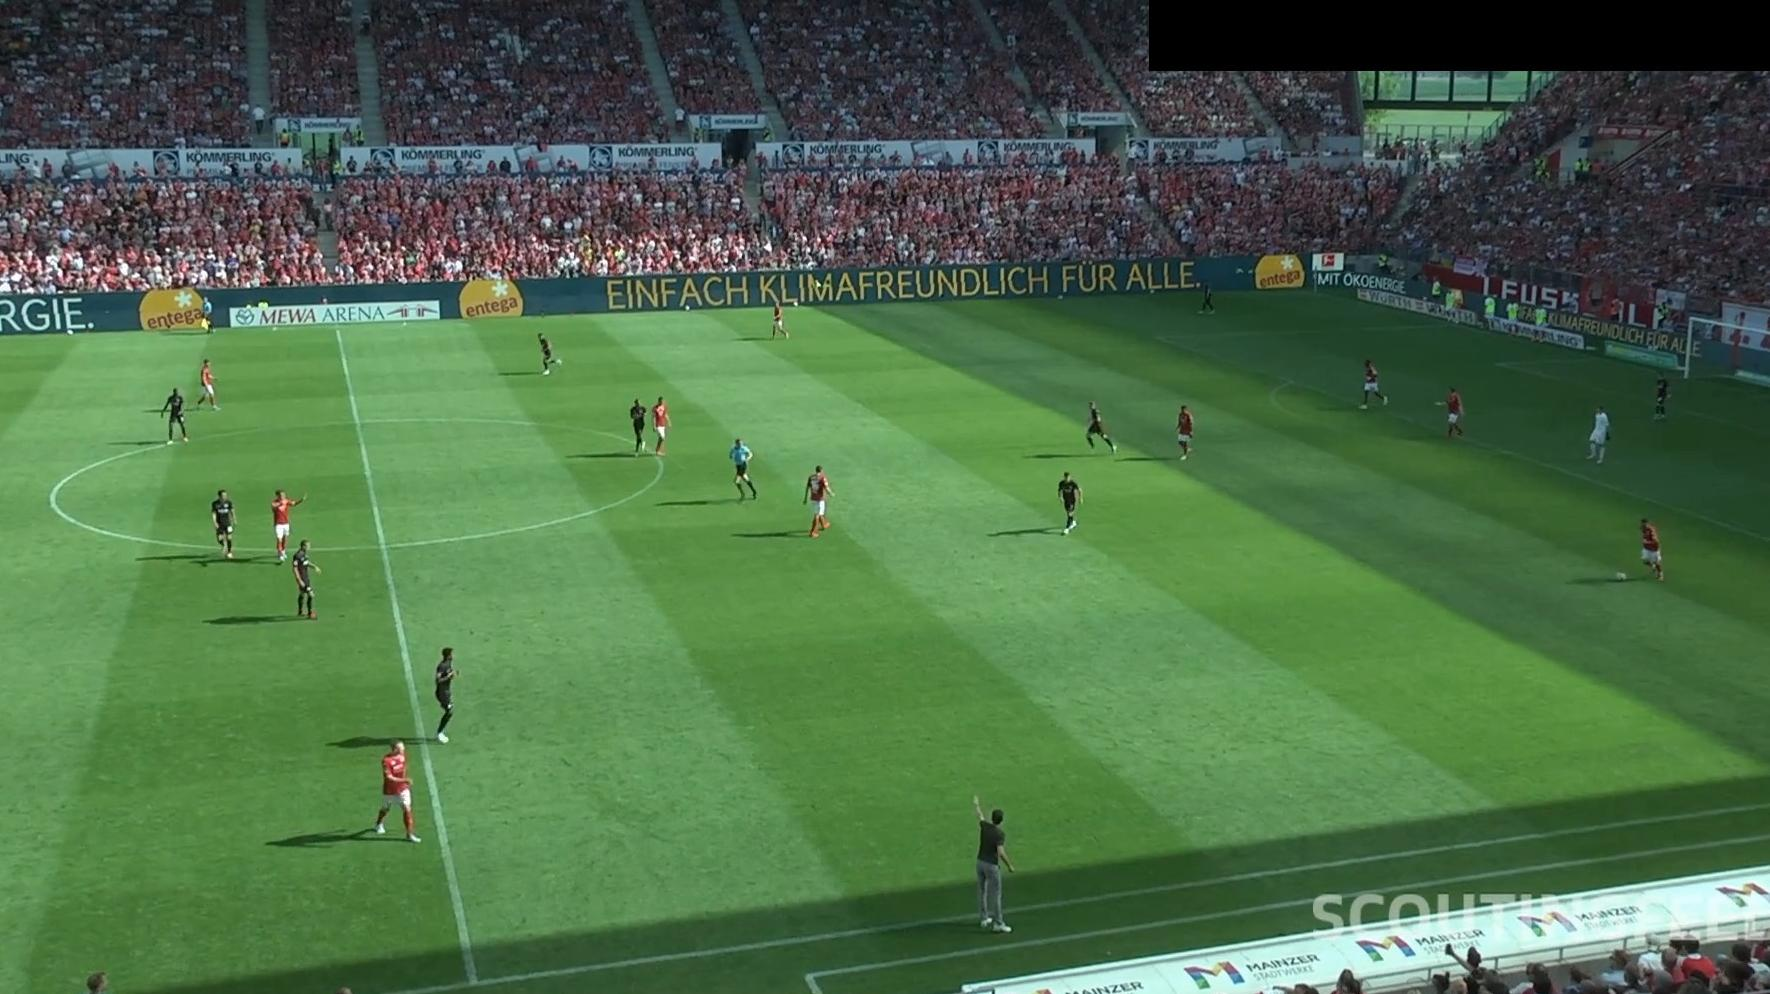ball: (1613, 570, 1628, 582)
